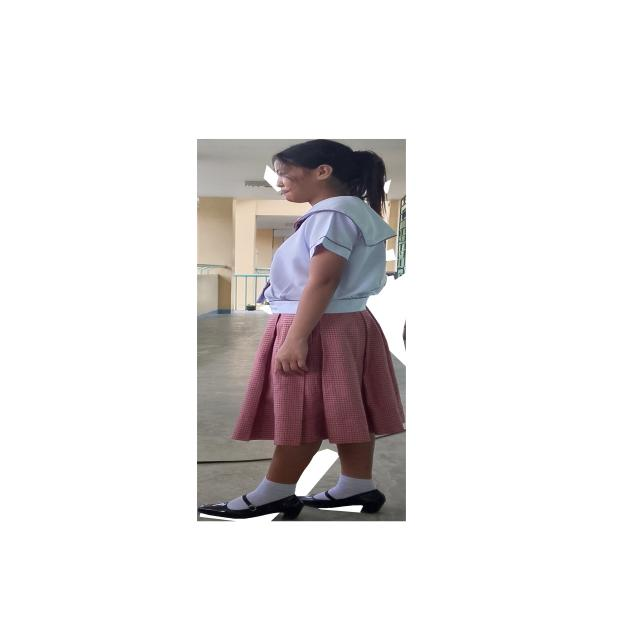pologirl: (264, 196, 393, 314)
shoes: (198, 489, 386, 520)
skirt: (231, 305, 405, 446)
